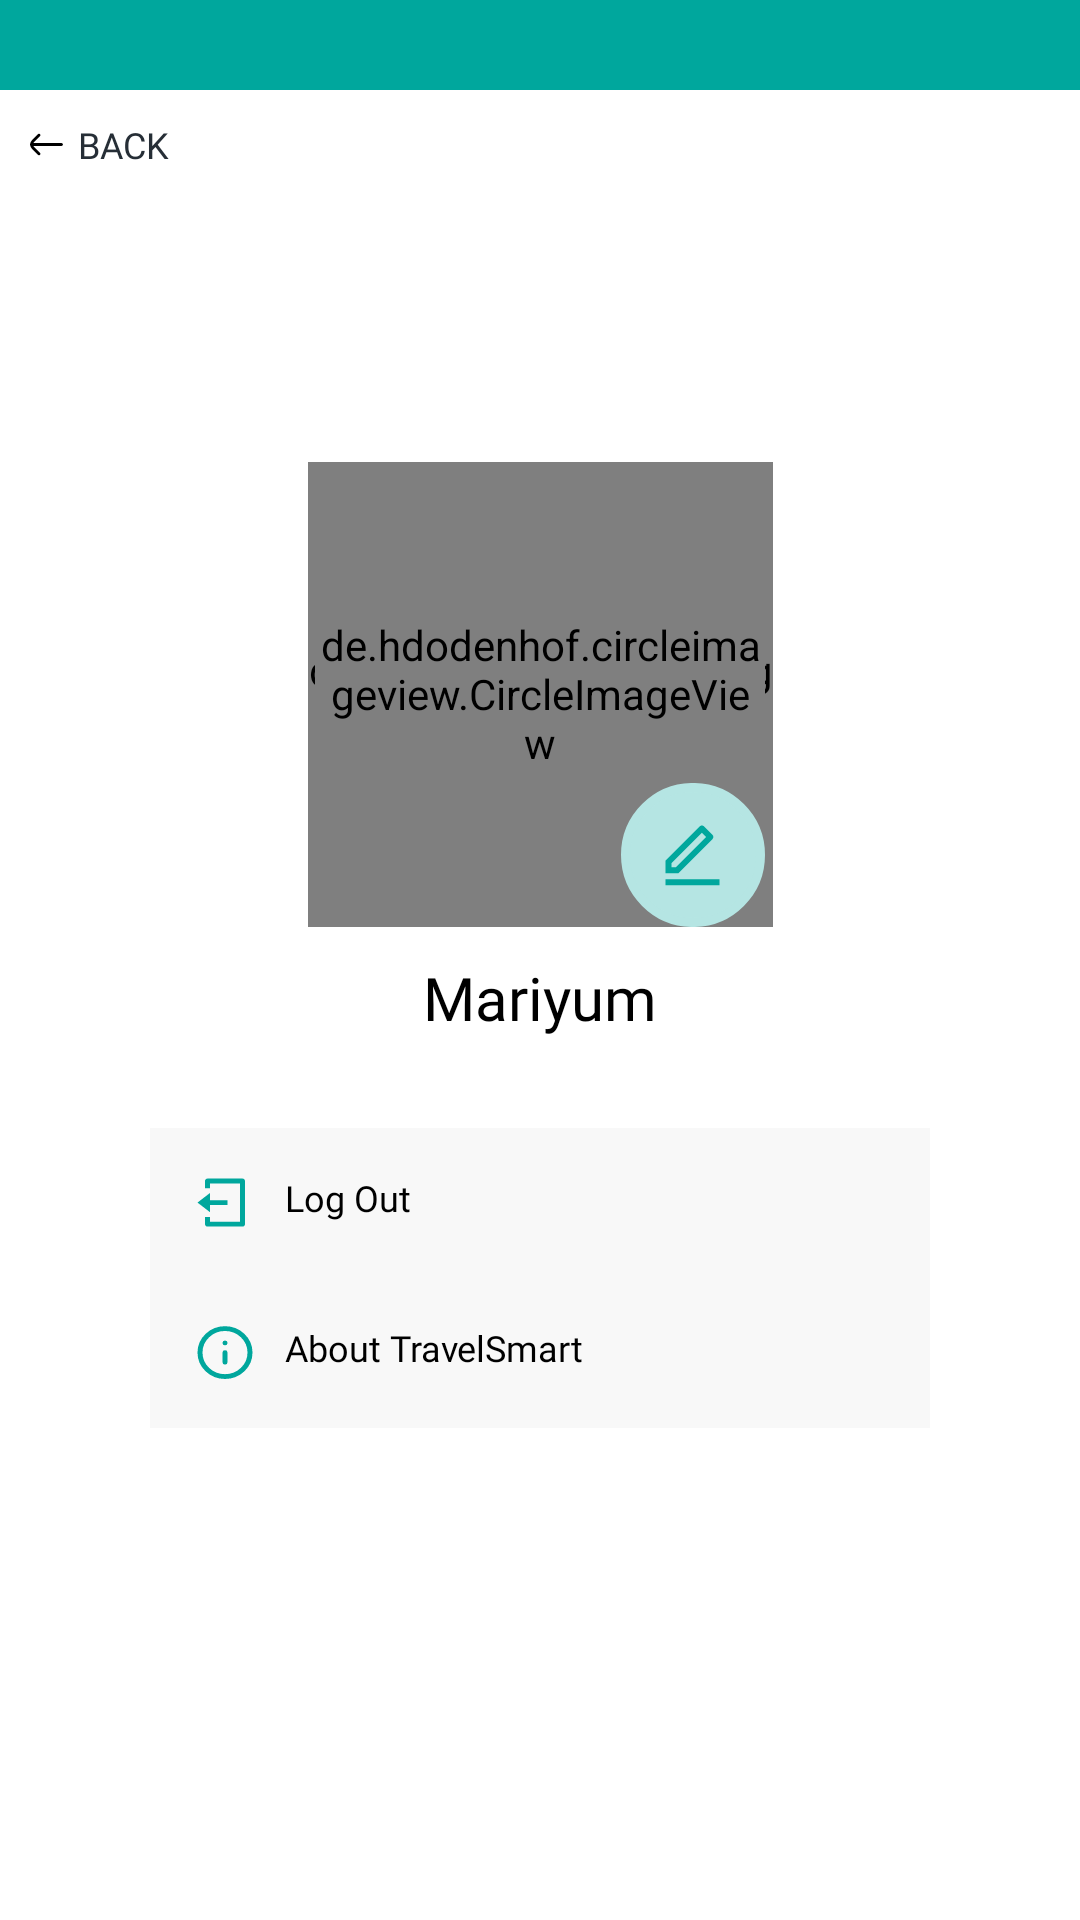

Point at icon controls on the screen. Image size 1080 x 1920, points as [x,y].
edit: [693,855]
